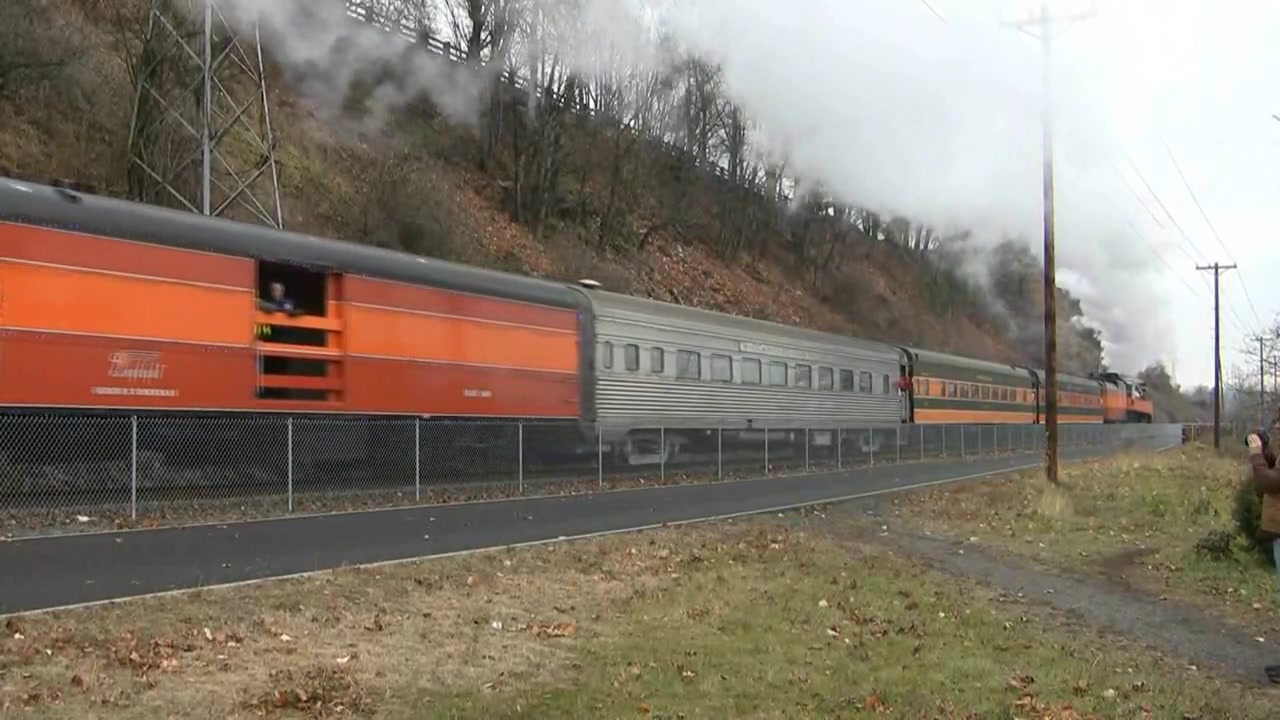train: (1, 156, 1160, 505)
